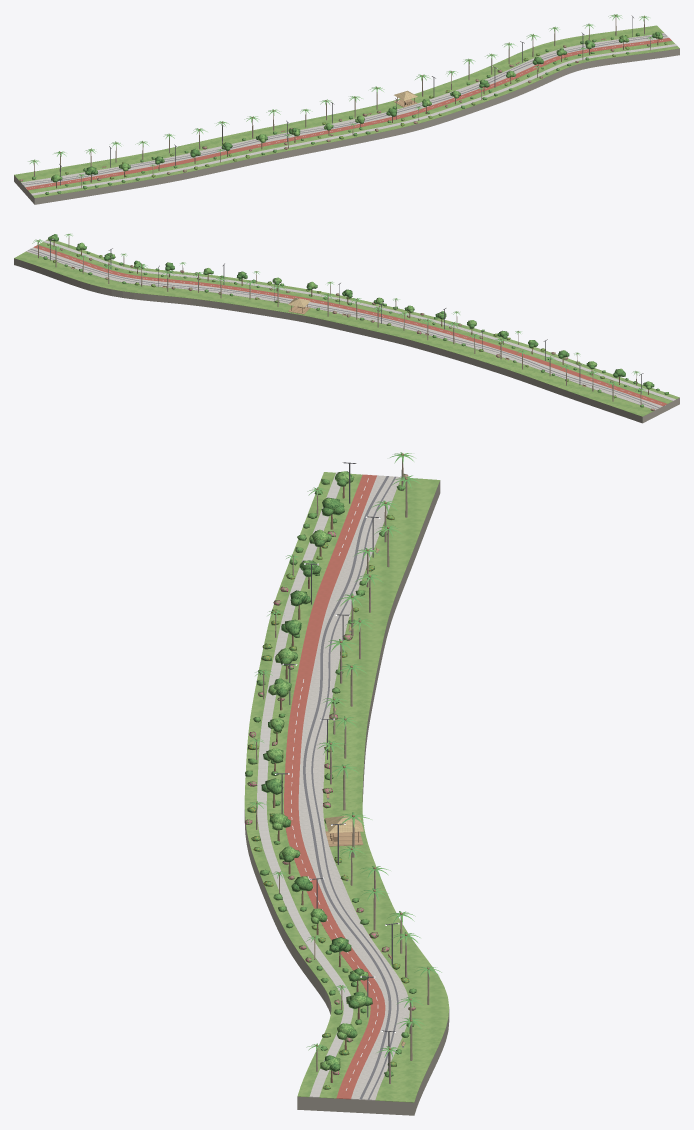
File: parque_13.glb
The picture shows the model from 3 angles, top to bottom: view 1: azimuth 30°, elevation 25°; view 2: azimuth 150°, elevation 25°; view 3: azimuth 270°, elevation 25°; orthographic projection. The views are drawn at different scales.
Visible parts, largest first — view 1: parque_13; view 2: parque_13; view 3: parque_13.
Part boxes in pixels (x1,y1,x2,y2): parque_13: (14, 15, 679, 204); parque_13: (14, 239, 679, 423); parque_13: (244, 462, 449, 1115).
Size of the model in its own units: 303 by 14.24 by 41.69.
Materials: 22 (14 with a texture image).
